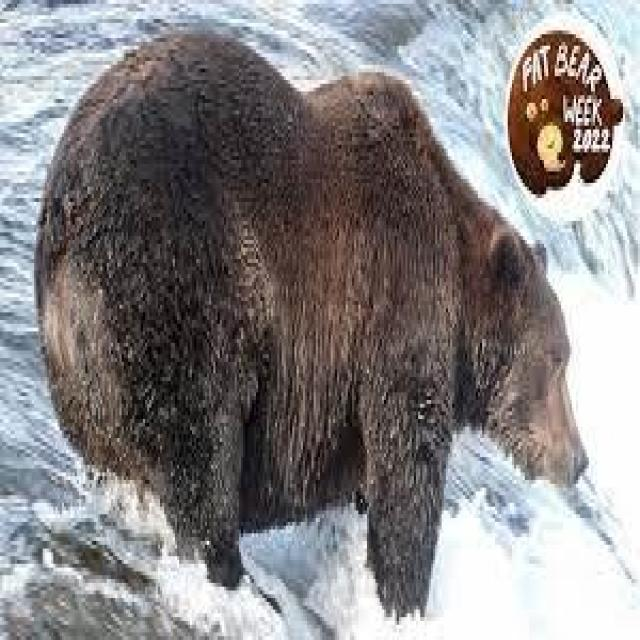Bear: (32, 27, 614, 621)
